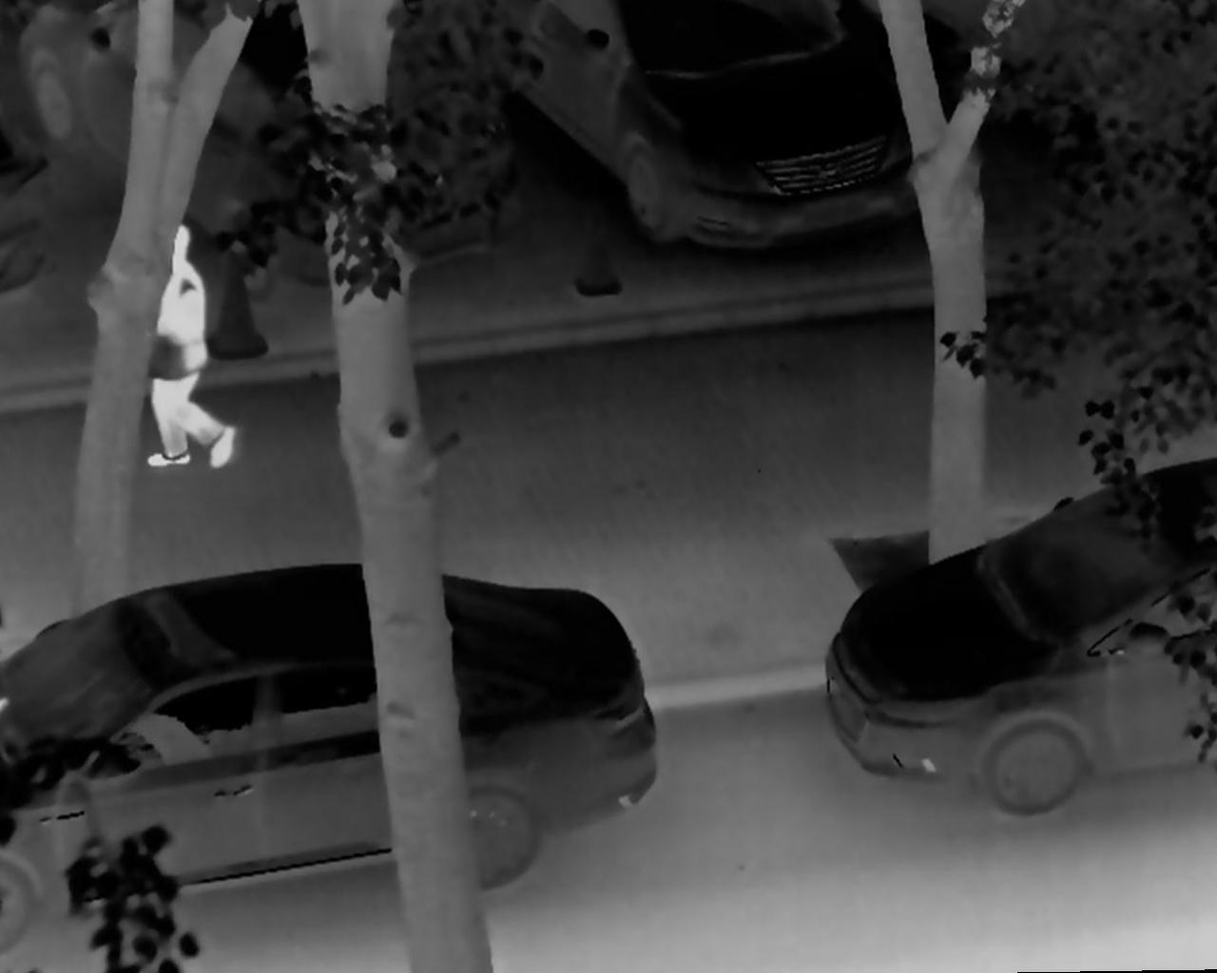person: (143, 221, 240, 475)
